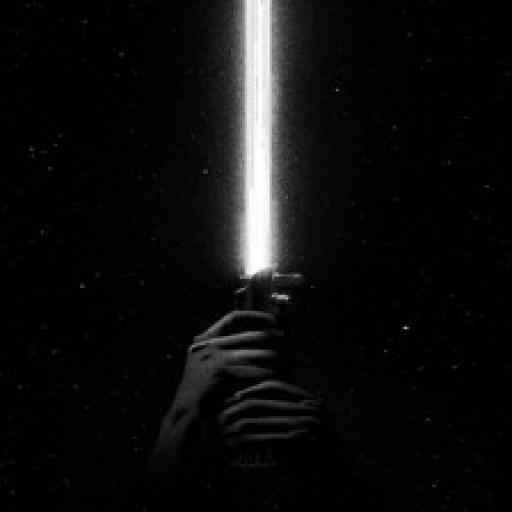lightsaber: (234, 0, 300, 308)
